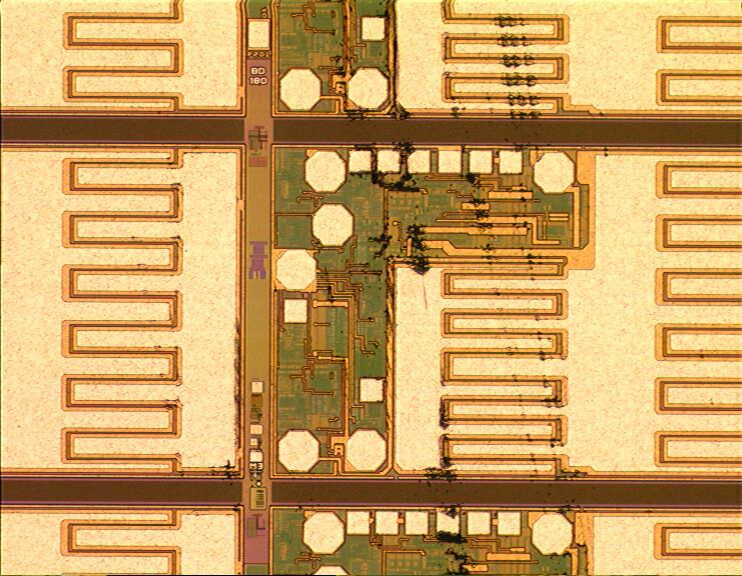SCRATCH: (216, 1, 598, 576)
